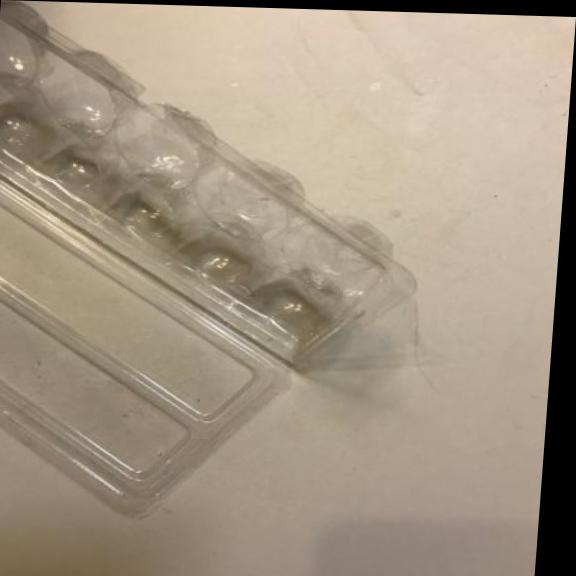Plastik: (0, 4, 440, 520)
